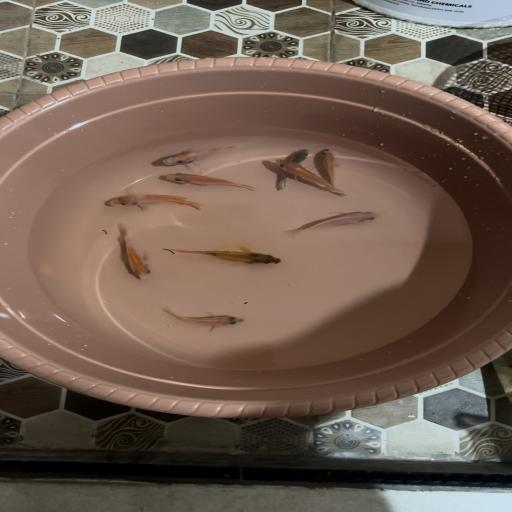nila: (160, 240, 290, 275), (263, 154, 348, 200), (103, 222, 160, 286), (284, 204, 384, 240), (149, 302, 251, 334), (93, 188, 213, 215), (152, 137, 254, 168), (155, 168, 259, 192), (276, 143, 310, 191), (316, 148, 351, 192)
